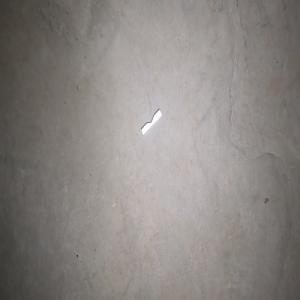ClampPart: (140, 108, 162, 136)
